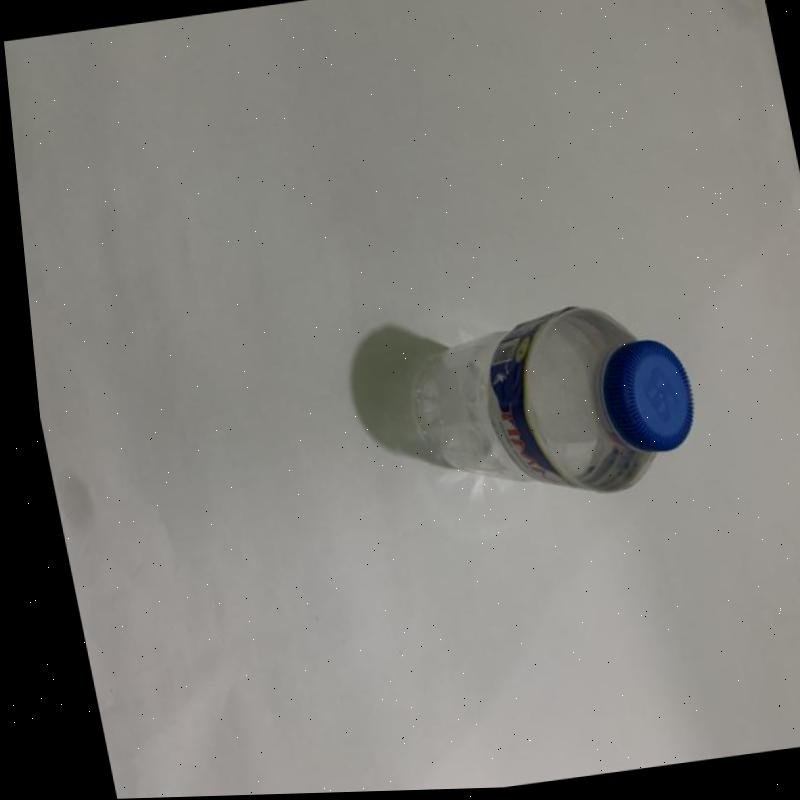botella: (380, 291, 704, 523)
